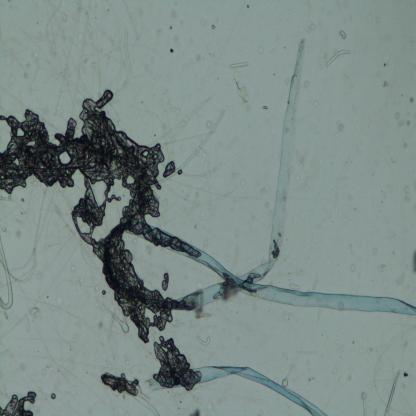Air bubble: (0, 390, 37, 416), (177, 168, 183, 176), (50, 392, 56, 400), (101, 289, 106, 296)
Background material: (0, 90, 179, 342), (154, 336, 203, 392), (53, 42, 72, 114), (47, 353, 79, 385), (103, 371, 139, 396), (230, 71, 249, 103), (22, 49, 38, 79), (102, 350, 124, 371), (162, 160, 176, 177), (401, 184, 412, 204), (162, 271, 170, 292), (411, 248, 416, 274), (189, 407, 203, 416), (303, 0, 313, 12), (396, 273, 406, 284), (377, 263, 387, 273), (260, 185, 270, 195), (204, 119, 214, 128), (19, 362, 28, 372), (382, 78, 390, 88), (306, 21, 314, 31), (337, 123, 345, 132), (340, 29, 346, 41), (98, 318, 105, 328), (283, 312, 290, 322), (171, 10, 178, 20), (400, 382, 408, 390), (131, 237, 139, 245), (346, 374, 353, 382), (70, 266, 78, 273), (234, 228, 240, 237), (338, 345, 344, 354), (265, 201, 271, 210), (276, 34, 282, 43), (350, 264, 356, 272), (314, 100, 320, 108), (395, 111, 401, 119), (389, 158, 397, 164), (409, 96, 414, 105), (350, 243, 354, 254), (372, 247, 378, 254), (332, 367, 338, 374), (389, 185, 394, 193), (403, 372, 409, 378), (405, 120, 411, 126), (403, 142, 408, 149), (241, 180, 245, 188), (196, 53, 200, 61), (368, 347, 373, 353), (358, 348, 363, 354), (263, 105, 269, 110), (180, 21, 185, 27), (404, 341, 408, 348), (296, 174, 300, 181), (232, 173, 236, 179), (260, 48, 264, 54), (251, 216, 255, 221), (170, 48, 174, 53), (212, 24, 216, 29), (246, 5, 250, 10), (352, 340, 356, 344), (382, 62, 386, 66), (170, 26, 173, 30), (350, 16, 352, 21), (216, 78, 220, 80), (340, 356, 342, 358)
Cotton: (105, 33, 416, 315), (146, 364, 327, 416)
Glass filter fibre: (160, 109, 223, 184), (13, 187, 50, 283), (210, 1, 245, 76), (70, 0, 92, 118), (0, 235, 15, 311), (133, 382, 160, 416), (102, 301, 130, 332), (159, 203, 199, 224), (384, 368, 401, 416), (120, 0, 140, 38), (182, 160, 224, 178), (45, 0, 63, 42), (0, 84, 30, 109), (86, 394, 108, 416), (123, 30, 133, 76), (324, 50, 349, 68), (13, 336, 60, 344), (38, 116, 60, 132), (107, 306, 116, 340), (196, 330, 211, 346), (230, 245, 238, 273), (197, 324, 214, 337), (89, 30, 99, 51), (282, 369, 293, 388), (226, 136, 238, 151), (396, 327, 414, 337), (361, 391, 368, 416), (228, 61, 250, 68), (32, 64, 38, 85), (391, 323, 416, 328), (24, 312, 30, 332), (312, 275, 318, 292), (30, 307, 39, 317), (296, 350, 318, 354), (1, 308, 8, 319), (290, 283, 301, 289), (406, 314, 416, 320), (28, 85, 33, 97), (317, 307, 321, 320), (124, 354, 127, 362)
